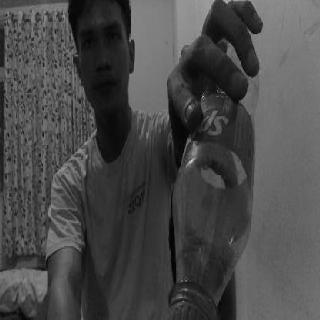plastic_bottles: (170, 60, 265, 317)
